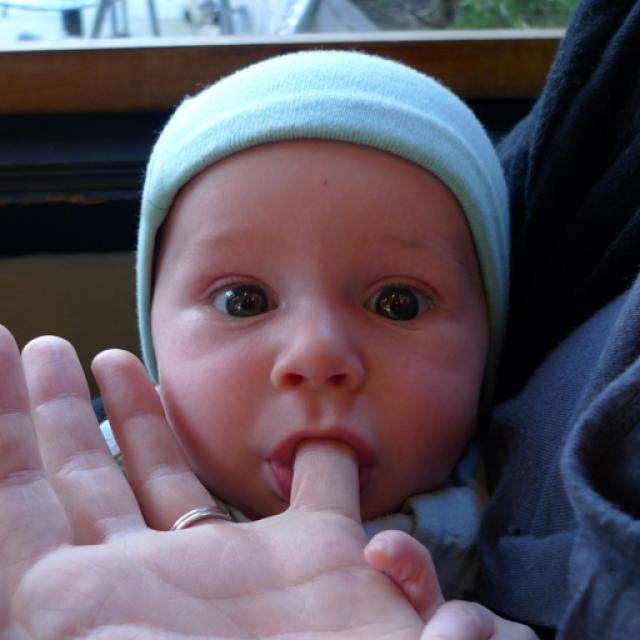surprise: (154, 134, 485, 522)
